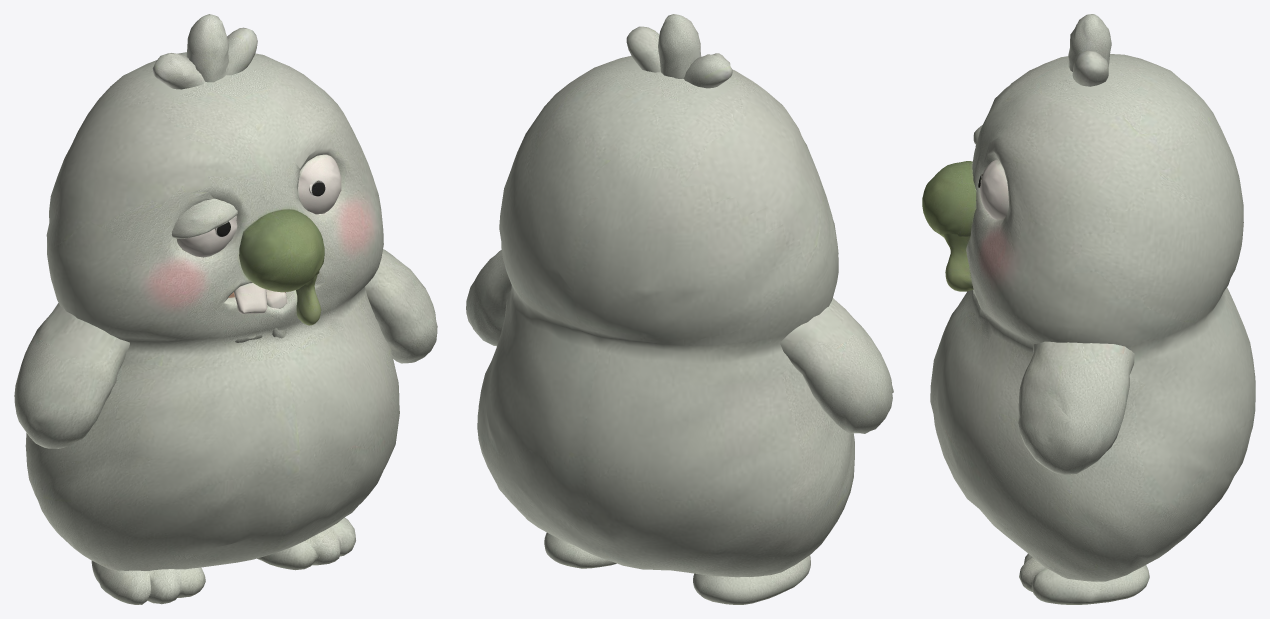
Rendered from monster_snowman.glb.
3 renders of one model, left to right at view 1: azimuth 30°, elevation 25°; view 2: azimuth 150°, elevation 25°; view 3: azimuth 270°, elevation 25°, orthographic. The views are drawn at different scales.
Size of the model in its own units: 0.7397 by 0.9482 by 0.5352.
1 material, 1 textured.
